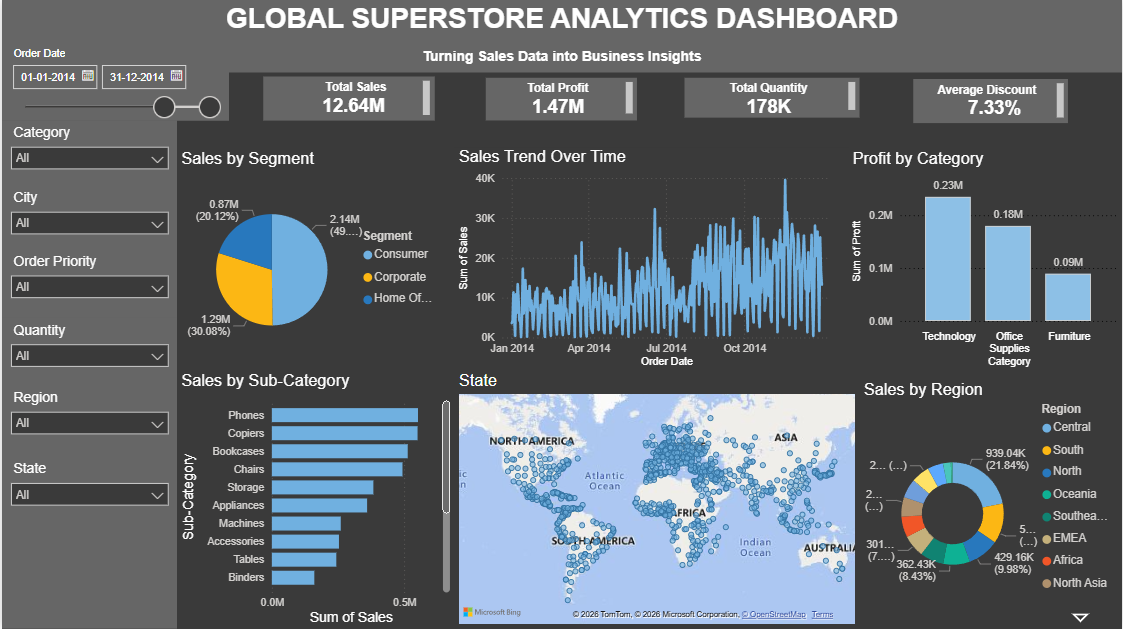

What the dashboard file says about the page in this screenshot:
{"tool":"powerbi","page":{"name":"Page 1","canvas":[1280,720],"ordinal":0},"visuals":[{"type":"textbox","box":[0,0,1280,83.8],"z":0},{"type":"textbox","box":[298.6,88.6,195.7,50],"z":1000},{"type":"textbox","box":[552.9,90,172.9,48.6],"z":2000},{"type":"textbox","box":[780,90,200,45.7],"z":3000},{"type":"textbox","box":[1041.4,91.4,177.1,50],"z":4000},{"type":"donutChart","title":" Sales by Region","fields":{"Category":["Global_Superstore2.Region"],"Y":["Sum(Global_Superstore2.Sales)"]},"box":[980,435.7,300,284.3],"z":5000},{"type":"barChart","title":"Sales by Sub-Category","fields":{"Category":["Global_Superstore2.Sub-Category"],"Y":["Sum(Global_Superstore2.Sales)"]},"box":[200,425.7,317.1,294.3],"z":6000},{"type":"textbox","box":[117,232,237,150],"z":7000},{"type":"map","fields":{"Category":["Global_Superstore2.State"]},"box":[517.1,425.7,462.9,294.3],"z":8000},{"type":"pieChart","title":" Sales by Segment","fields":{"Category":["Global_Superstore2.Segment"],"Y":["Sum(Global_Superstore2.Sales)"]},"box":[200,171.4,307.1,255.7],"z":9000},{"type":"lineChart","title":"Sales Trend Over Time","fields":{"Category":["Global_Superstore2.Order Date"],"Y":["Sum(Global_Superstore2.Sales)"]},"box":[517.1,170,450,255.7],"z":10000},{"type":"clusteredColumnChart","title":"Profit by Category","fields":{"Category":["Global_Superstore2.Category"],"Y":["Sum(Global_Superstore2.Profit)"]},"box":[967.1,171.4,312.9,254.3],"z":11000},{"type":"slicer","fields":{"Values":["Global_Superstore2.Category"]},"box":[0,138.6,200,92.9],"z":12000},{"type":"slicer","fields":{"Values":["Global_Superstore2.City"]},"box":[0,212.9,200,147.1],"z":13000},{"type":"slicer","fields":{"Values":["Global_Superstore2.Order Priority"]},"box":[0,285.7,200,300],"z":14000},{"type":"slicer","fields":{"Values":["Global_Superstore2.Quantity"]},"box":[0,364.3,200,300],"z":15000},{"type":"slicer","fields":{"Values":["Global_Superstore2.Region"]},"box":[0,441.4,200,98.6],"z":16000},{"type":"slicer","fields":{"Values":["Global_Superstore2.State"]},"box":[0,522.9,200,197.1],"z":17000},{"type":"slicer","fields":{"Values":["Global_Superstore2.Order Date"]},"box":[0,50,258.6,88.6],"z":17001}]}

Visuals, with their boxes in screenshot pixels (x1, y1, x2, y2), scaled from the page's 1280x720 canvas onto the 1123x629 screenshot:
textbox: region(0, 0, 1122, 73)
textbox: region(262, 77, 434, 121)
textbox: region(485, 79, 637, 121)
textbox: region(684, 79, 860, 119)
textbox: region(914, 80, 1069, 124)
" Sales by Region" donutChart: region(860, 381, 1122, 628)
"Sales by Sub-Category" barChart: region(175, 372, 454, 628)
textbox: region(103, 203, 311, 334)
map - Global_Superstore2.State: region(454, 372, 860, 628)
" Sales by Segment" pieChart: region(175, 150, 445, 373)
"Sales Trend Over Time" lineChart: region(454, 149, 848, 372)
"Profit by Category" clusteredColumnChart: region(848, 150, 1122, 372)
slicer - Global_Superstore2.Category: region(0, 121, 175, 202)
slicer - Global_Superstore2.City: region(0, 186, 175, 314)
slicer - Global_Superstore2.Order Priority: region(0, 250, 175, 512)
slicer - Global_Superstore2.Quantity: region(0, 318, 175, 580)
slicer - Global_Superstore2.Region: region(0, 386, 175, 472)
slicer - Global_Superstore2.State: region(0, 457, 175, 628)
slicer - Global_Superstore2.Order Date: region(0, 44, 227, 121)
